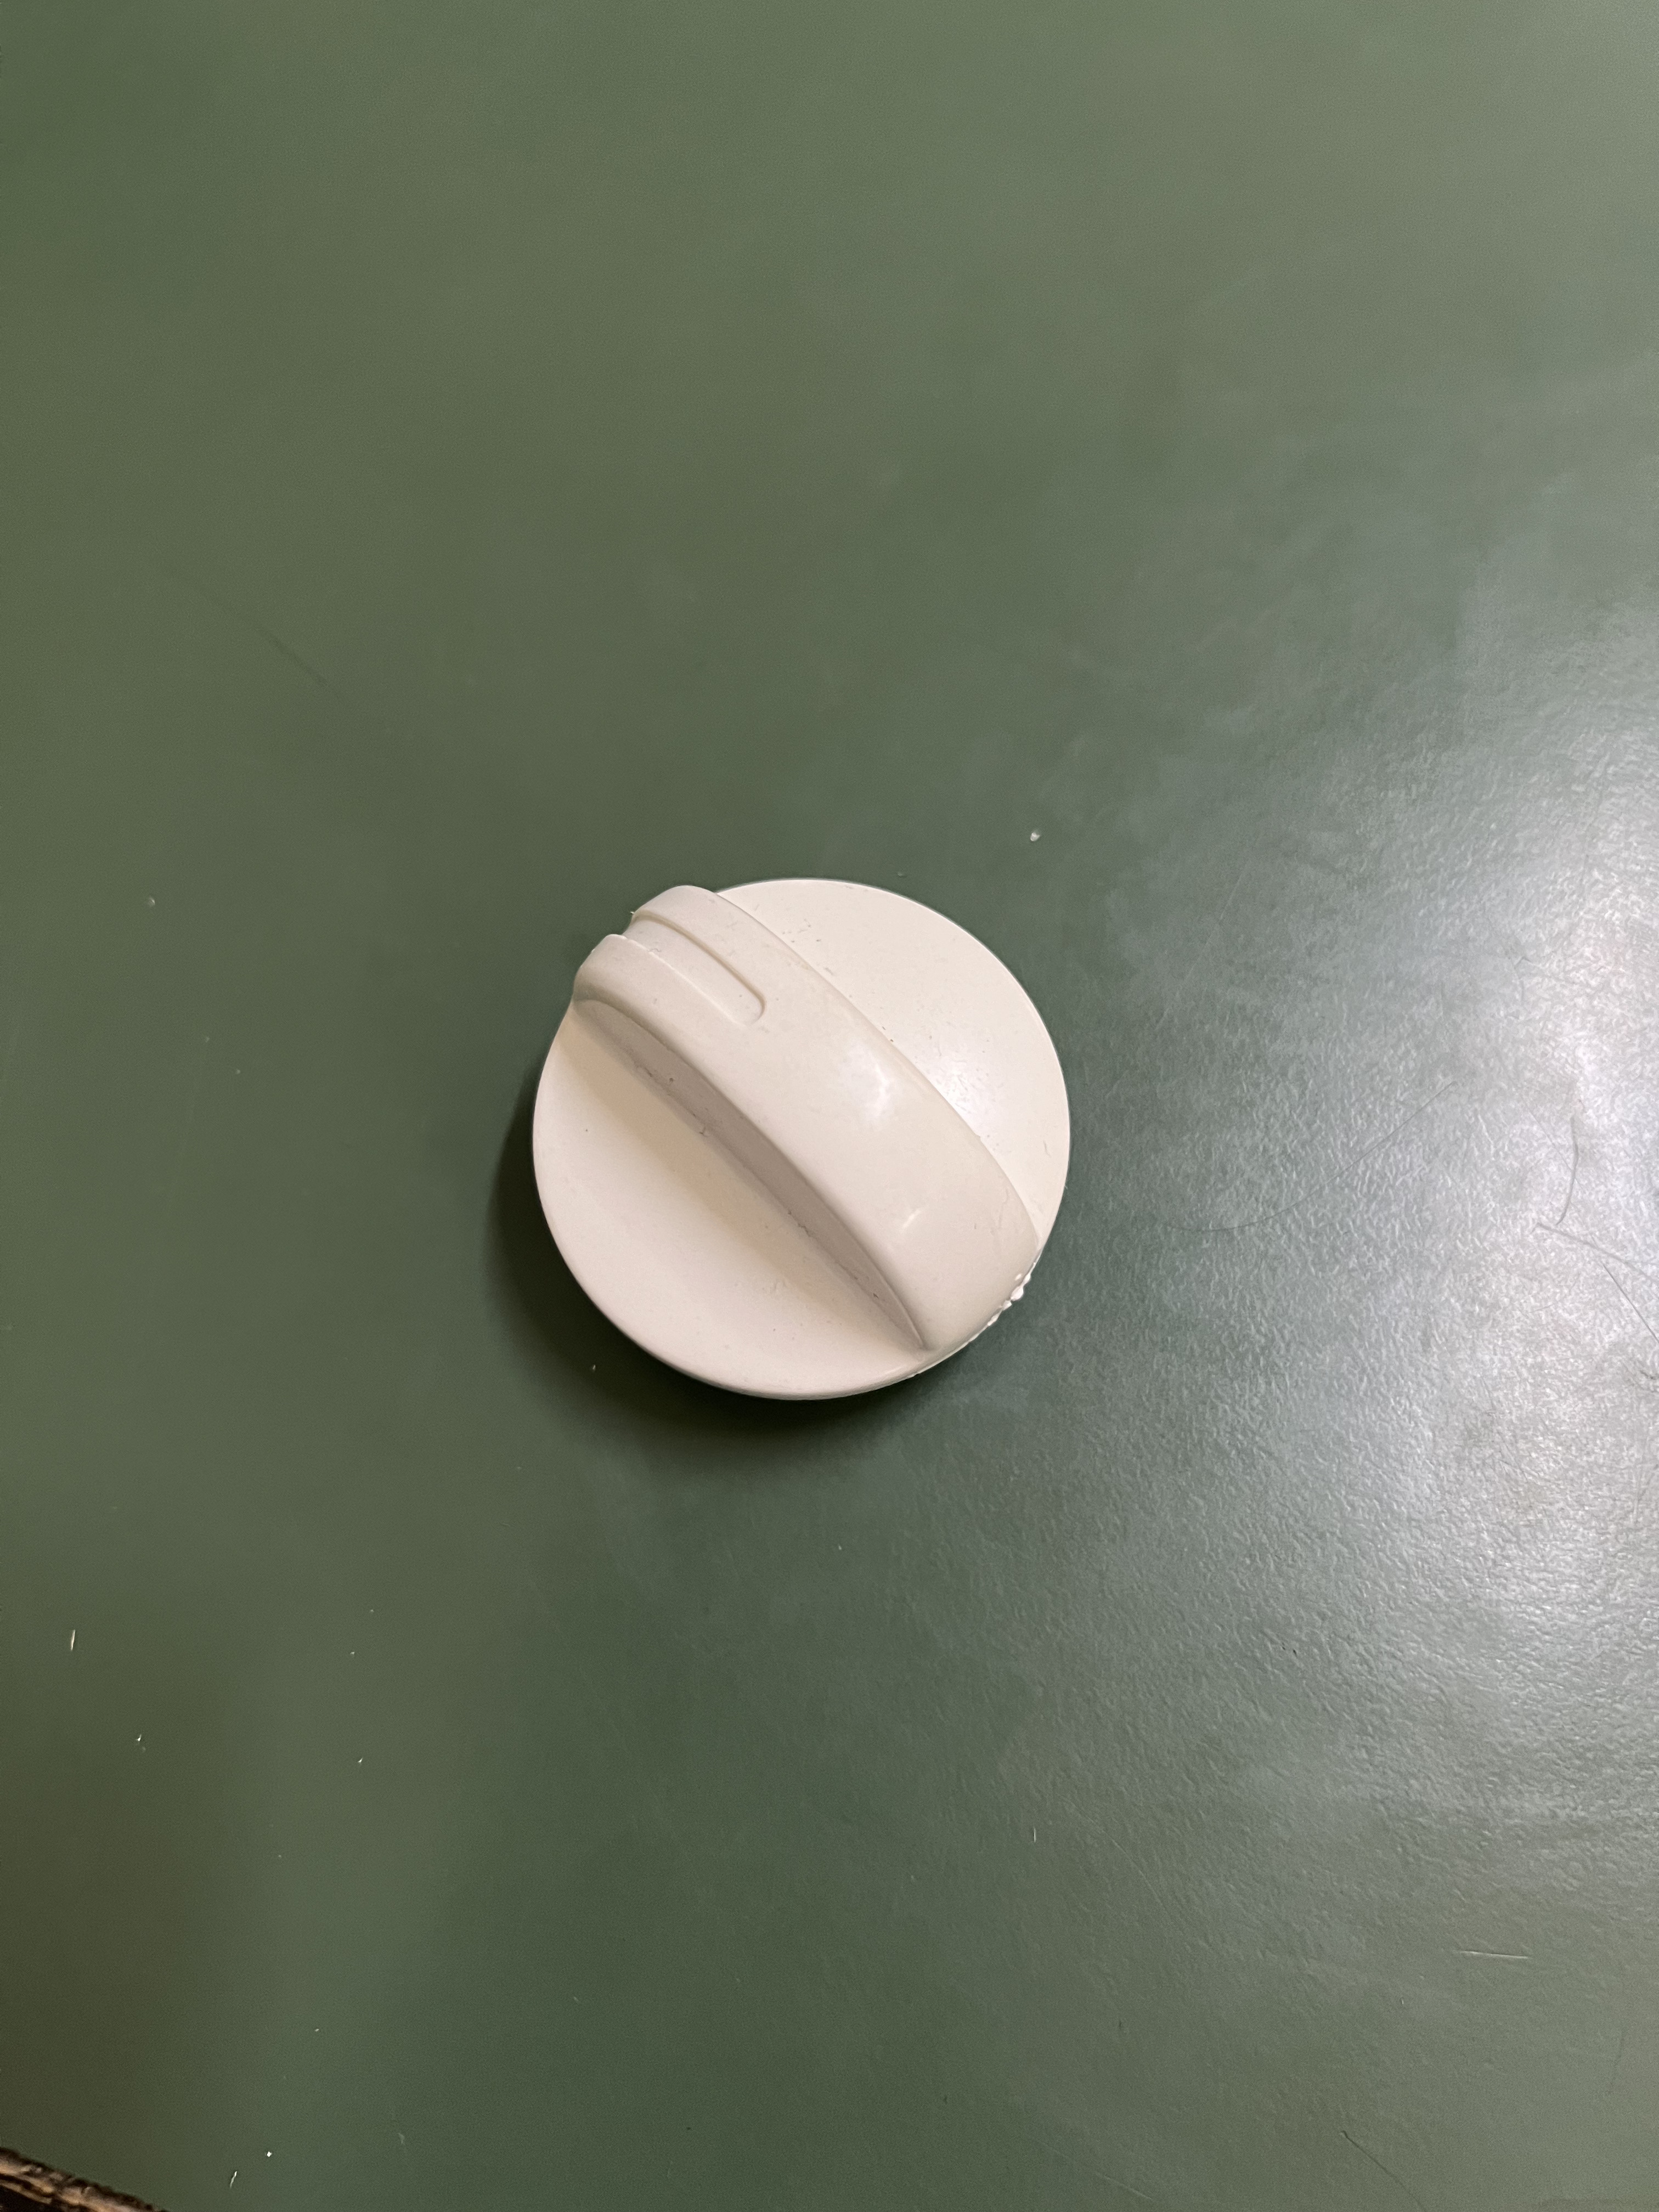regulator: (519, 855, 1086, 1371)
